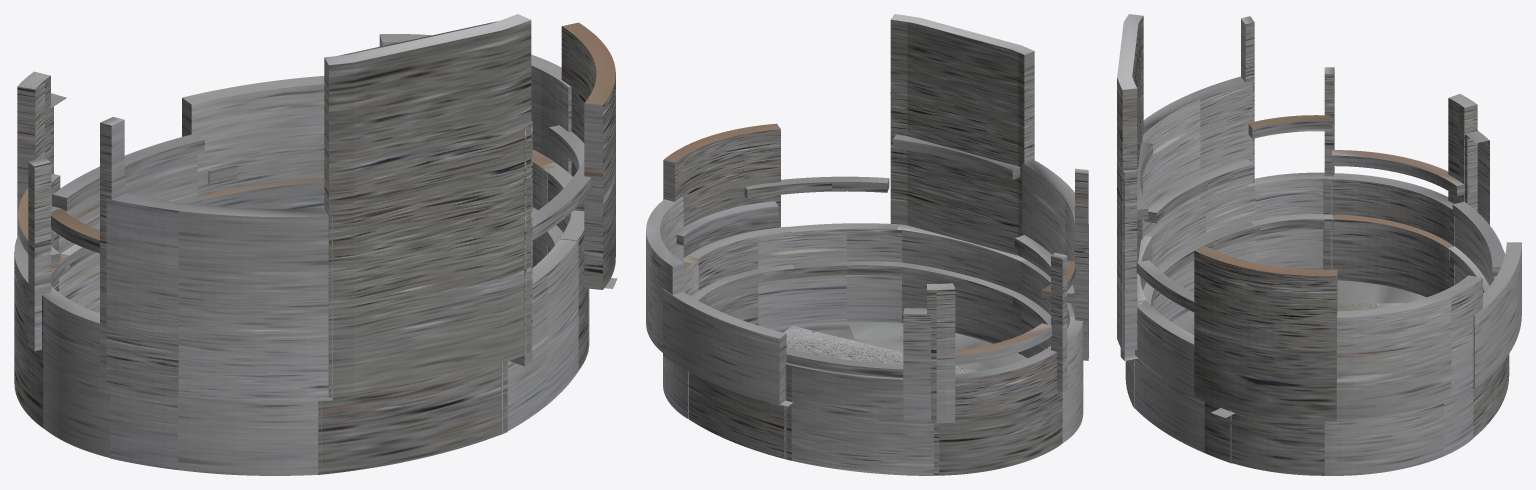
File: Level.obj
3 renders of one model, left to right at view 1: azimuth 30°, elevation 25°; view 2: azimuth 150°, elevation 25°; view 3: azimuth 270°, elevation 25°, orthographic. The views are drawn at different scales.
Visible parts, largest first — view 1: Cube; view 2: Cube; view 3: Cube.
Boxes of the visible parts, x1,y1,x2,y2 form: Cube: (14, 14, 617, 475); Cube: (646, 14, 1088, 475); Cube: (1117, 14, 1521, 475).
Bounding box in the file's own units: 210 × 150 × 170.
1 material, 1 textured.
